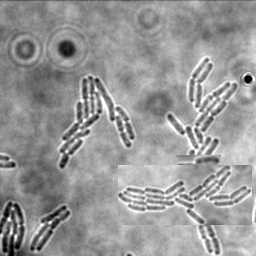Dividing: (204, 225, 222, 255), (199, 225, 215, 253)
Microcolony: (118, 165, 252, 225), (167, 57, 238, 164), (59, 75, 136, 169), (30, 204, 72, 251), (1, 200, 26, 255), (176, 155, 221, 179)
